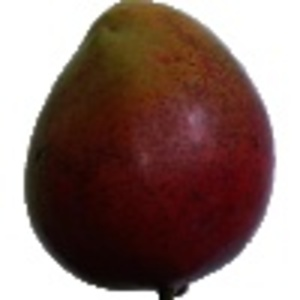manga: (24, 1, 277, 300)
